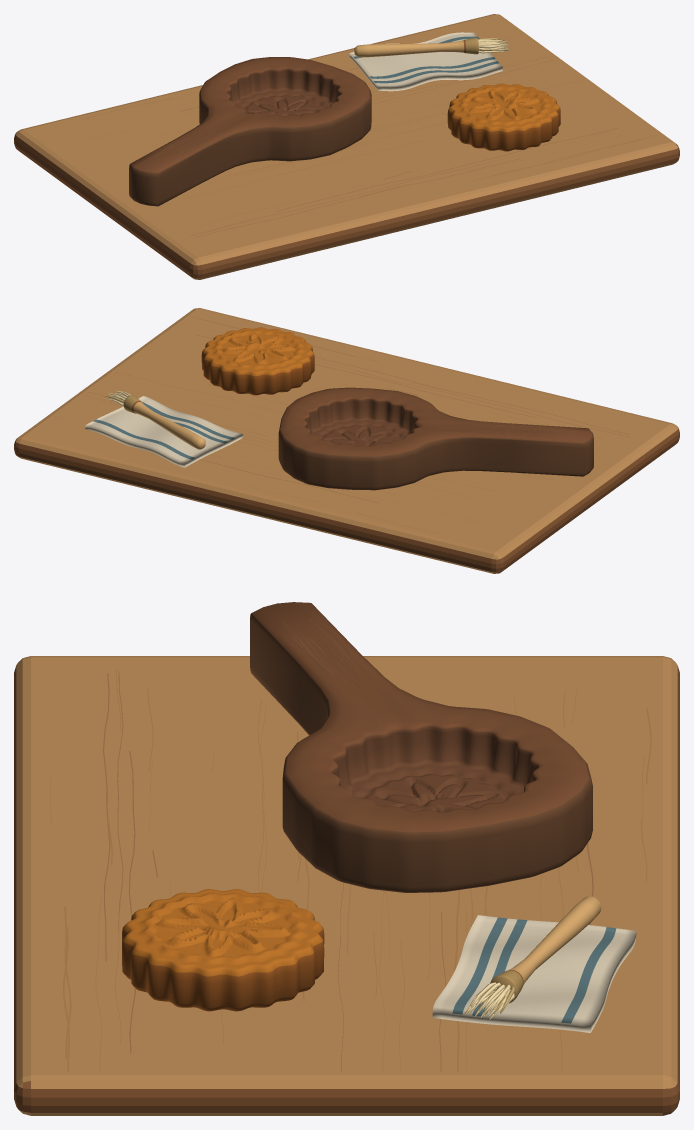
The model's file is wooden-mooncake-mould-workboard.glb.
The picture shows the model from 3 angles, top to bottom: view 1: azimuth 30°, elevation 25°; view 2: azimuth 150°, elevation 25°; view 3: azimuth 270°, elevation 25°; orthographic projection. The views are drawn at different scales.
Parts seen in each view (by area): view 1: Rounded workboard, long grain, Hardwood body with scalloped wall and carved motif, Fluted pastry with X-mirrored raised blossom and crescent, Layered cotton with indigo woven bands, Timber streaks, lengthwise, Turned bamboo shaft and brass binding, Thirty-one tapered pale brush fibres; view 2: Rounded workboard, long grain, Hardwood body with scalloped wall and carved motif, Fluted pastry with X-mirrored raised blossom and crescent, Layered cotton with indigo woven bands, Timber streaks, lengthwise, Turned bamboo shaft and brass binding; view 3: Rounded workboard, long grain, Hardwood body with scalloped wall and carved motif, Fluted pastry with X-mirrored raised blossom and crescent, Layered cotton with indigo woven bands, Timber streaks, lengthwise, Turned bamboo shaft and brass binding, Thirty-one tapered pale brush fibres.
Boxes of the visible parts, <box> form: Rounded workboard, long grain: <box>14,14,679,279</box>; Hardwood body with scalloped wall and carved motif: <box>129,57,371,206</box>; Fluted pastry with X-mirrored raised blossom and crescent: <box>447,83,560,151</box>; Layered cotton with indigo woven bands: <box>349,32,502,91</box>; Timber streaks, lengthwise: <box>83,35,656,237</box>; Turned bamboo shaft and brass binding: <box>354,37,478,57</box>; Thirty-one tapered pale brush fibres: <box>478,38,510,53</box>; Rounded workboard, long grain: <box>14,308,679,573</box>; Hardwood body with scalloped wall and carved motif: <box>278,387,593,490</box>; Fluted pastry with X-mirrored raised blossom and crescent: <box>201,327,314,395</box>; Layered cotton with indigo woven bands: <box>85,396,242,467</box>; Timber streaks, lengthwise: <box>55,316,632,534</box>; Turned bamboo shaft and brass binding: <box>123,395,205,449</box>; Rounded workboard, long grain: <box>14,656,679,1115</box>; Hardwood body with scalloped wall and carved motif: <box>250,602,592,892</box>; Fluted pastry with X-mirrored raised blossom and crescent: <box>122,889,324,1011</box>; Layered cotton with indigo woven bands: <box>432,915,636,1032</box>; Timber streaks, lengthwise: <box>50,669,651,1072</box>; Turned bamboo shaft and brass binding: <box>490,896,601,1003</box>; Thirty-one tapered pale brush fibres: <box>465,982,515,1019</box>.
Size of the model in its own units: 0.66 by 0.0757 by 0.43.
